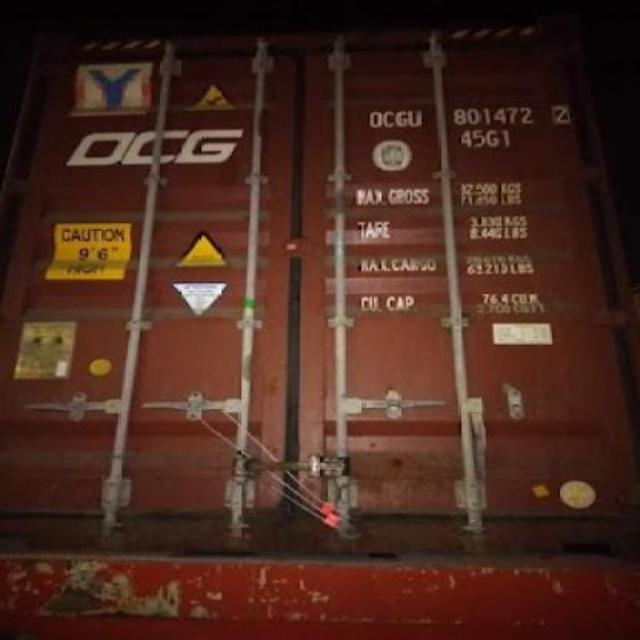0: (468, 106, 482, 126)
1: (482, 104, 494, 126)
2: (554, 105, 572, 125), (518, 104, 534, 126)
4: (494, 105, 508, 125)
7: (508, 104, 520, 126)
8: (452, 106, 468, 126)
C: (382, 108, 396, 132)
G: (394, 108, 408, 132)
O: (366, 108, 382, 132)
U: (408, 108, 420, 132)
